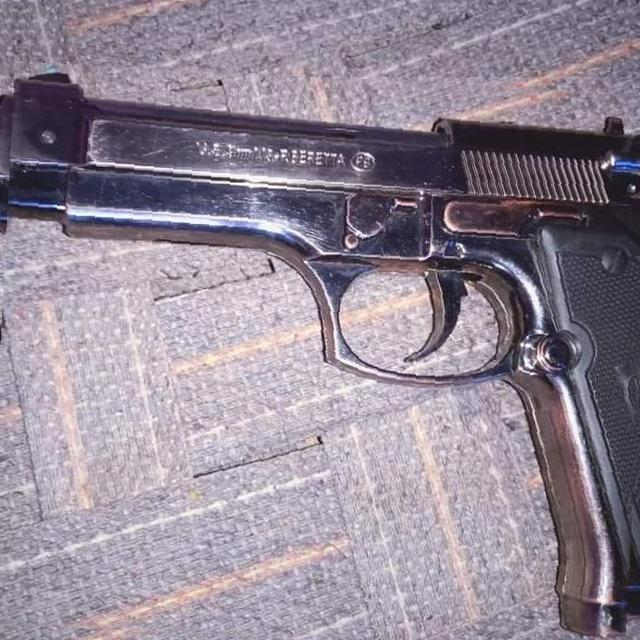rifle: (0, 56, 640, 393), (436, 318, 640, 640)
